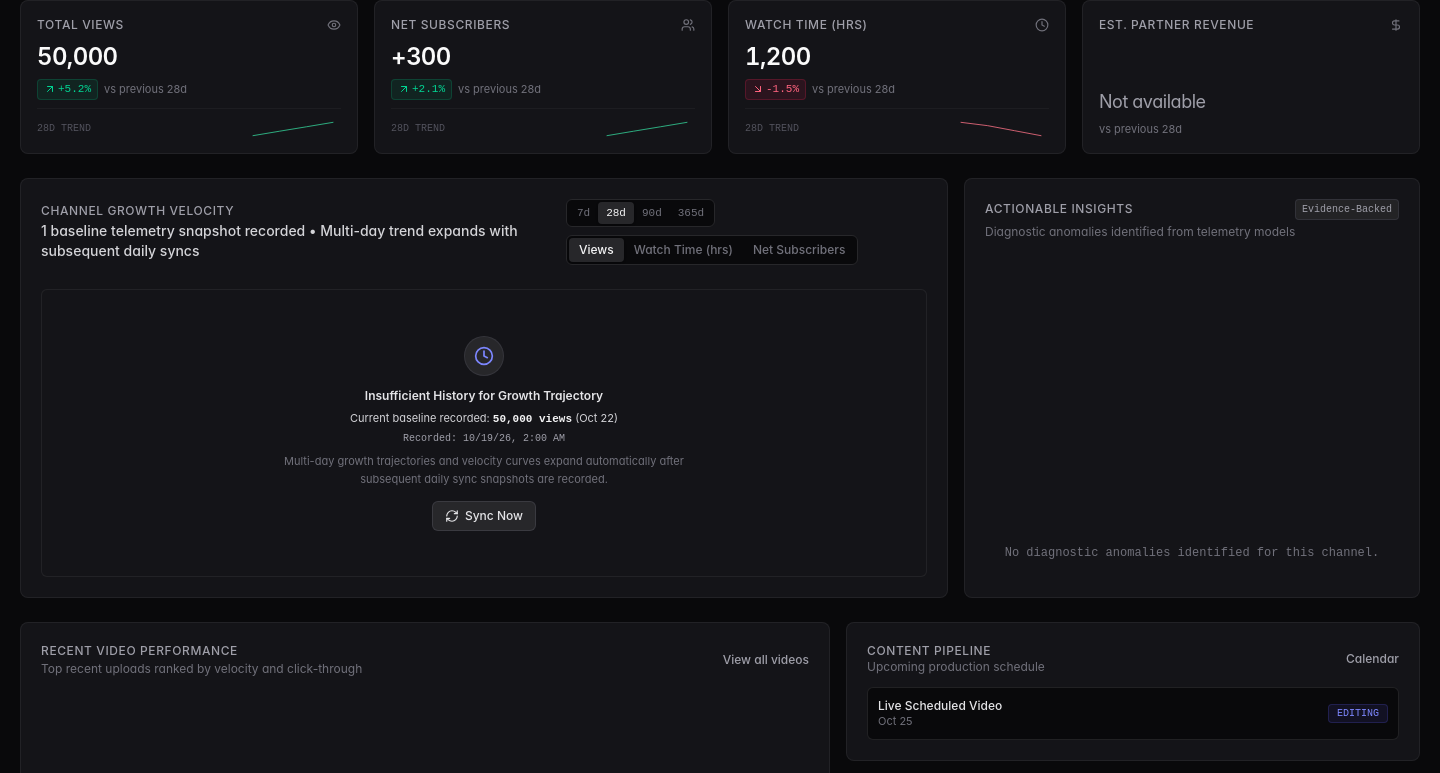
DashboardPage Reliability Tests › k. sync telemetry failure surfaces error banner without leaving a permanently active loading indicator
The width and height of the screenshot is (1440, 773).
Check: the element with test id "insufficient-history-state" is shown, box [41,289,927,577]
Click the button with test id "sync-now-insufficient-history": [484, 516] box [432,501,536,531]
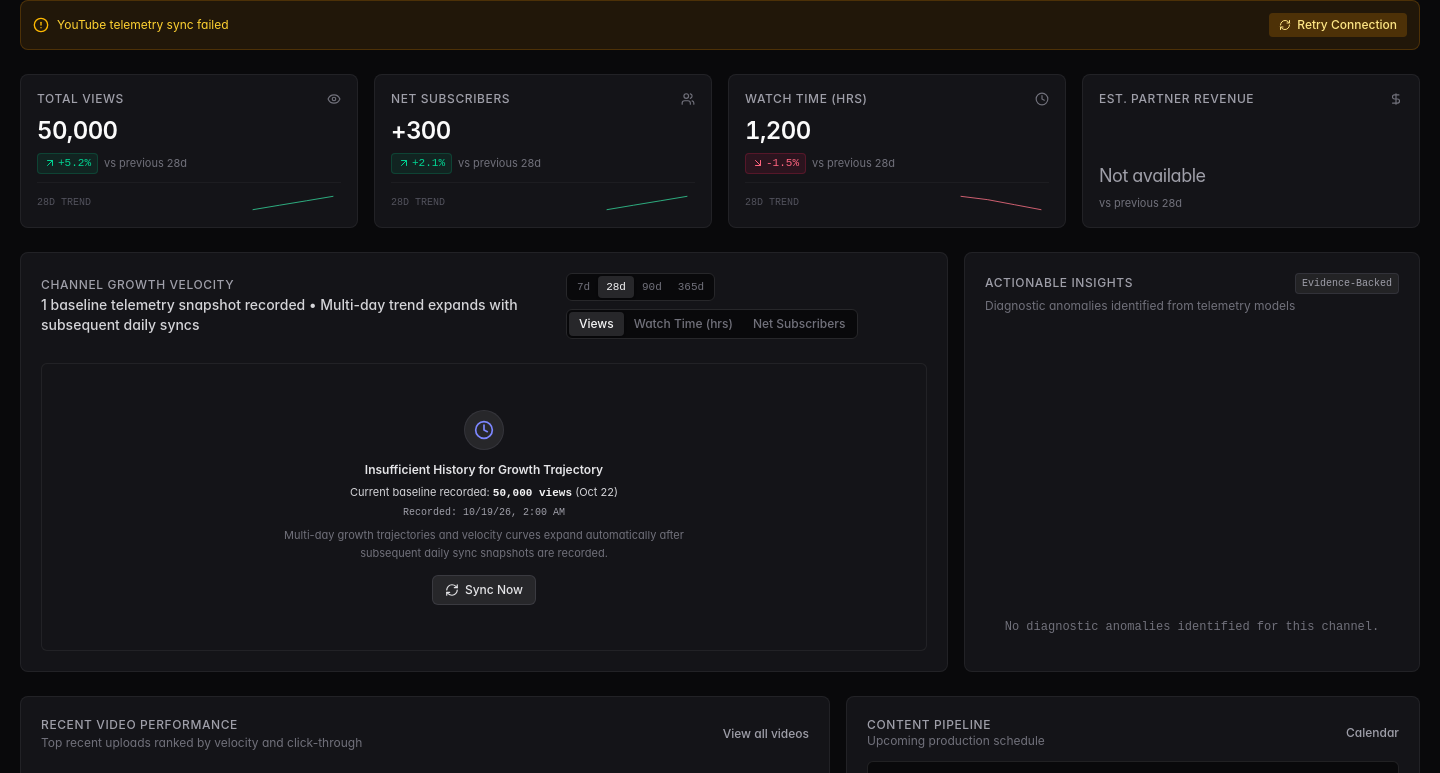
Check: the button with test id "sync-now-insufficient-history" is enabled, box [432,575,536,605]
Check: the element with test id "api-error-banner" is shown, box [20,0,1420,50]
